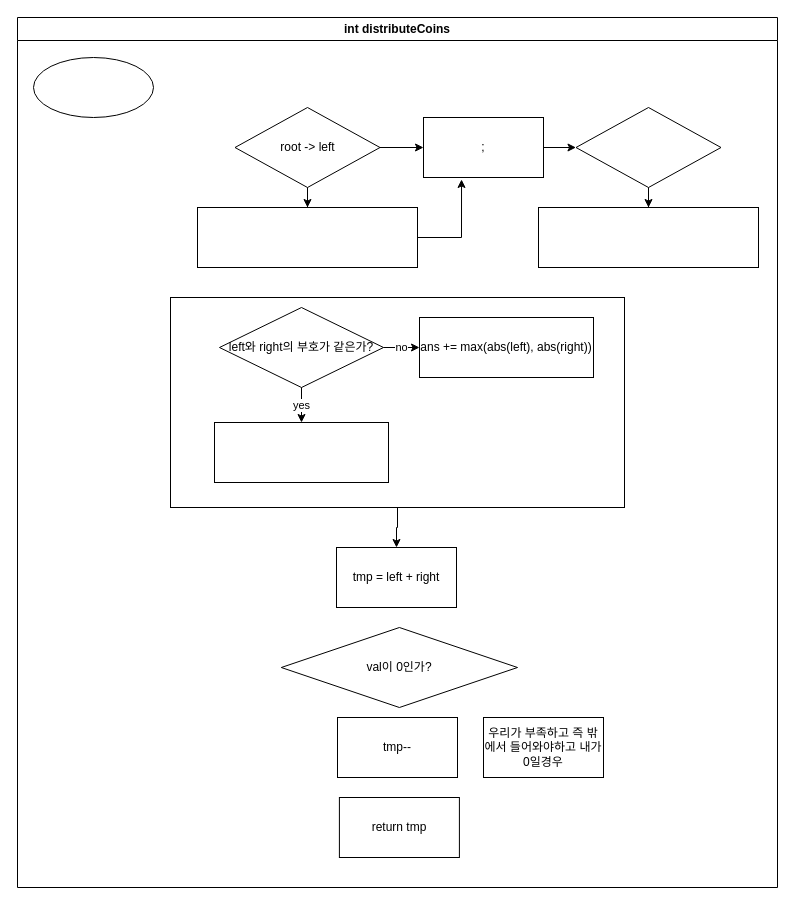
This 795x905 diagram has some shape labels left out. Each missing label, with the box of its shape:
ans += abs(left + right): (214, 422, 388, 482)
Int left int right int tmp: (32, 56, 154, 118)
left = distributeCoins(root -> left): (196, 206, 418, 268)
right = distributeCoins(root -> riggt): (538, 206, 758, 268)
root -> right: (575, 106, 721, 188)
